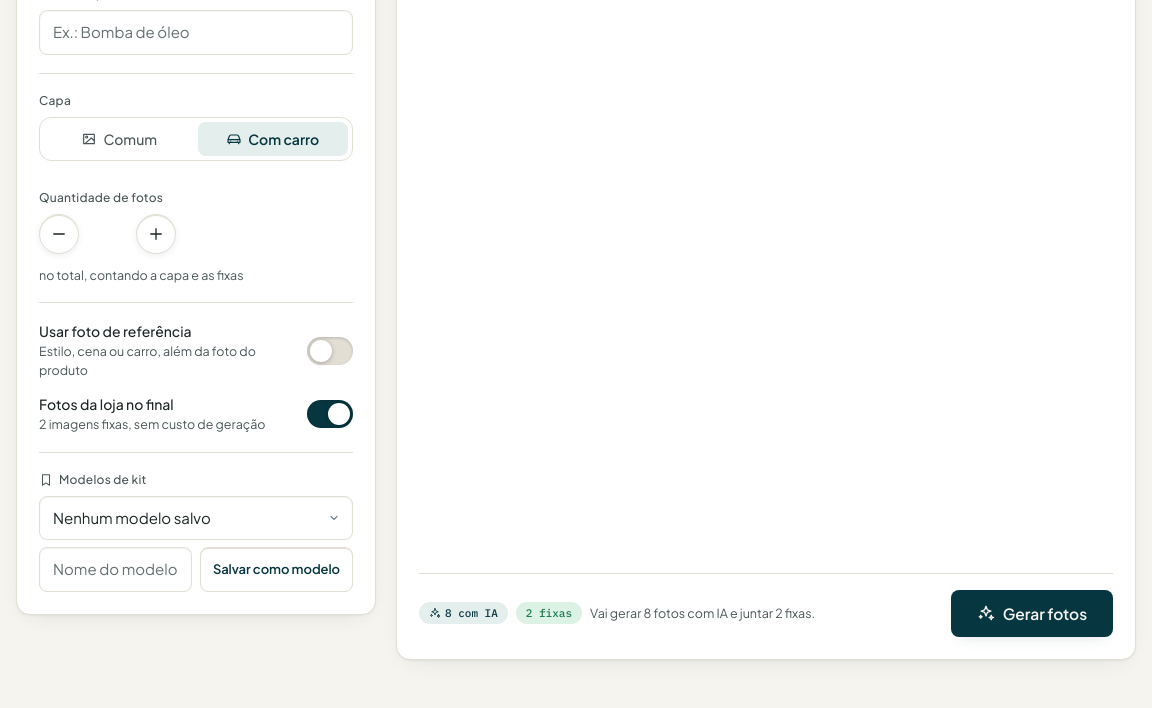
Test case: BuildKit: modelos de kit › salvar modelo sem nome mostra erro e não envia
(page scrolled)
Click the button "Salvar como modelo": (276, 569) [200,547,353,592]
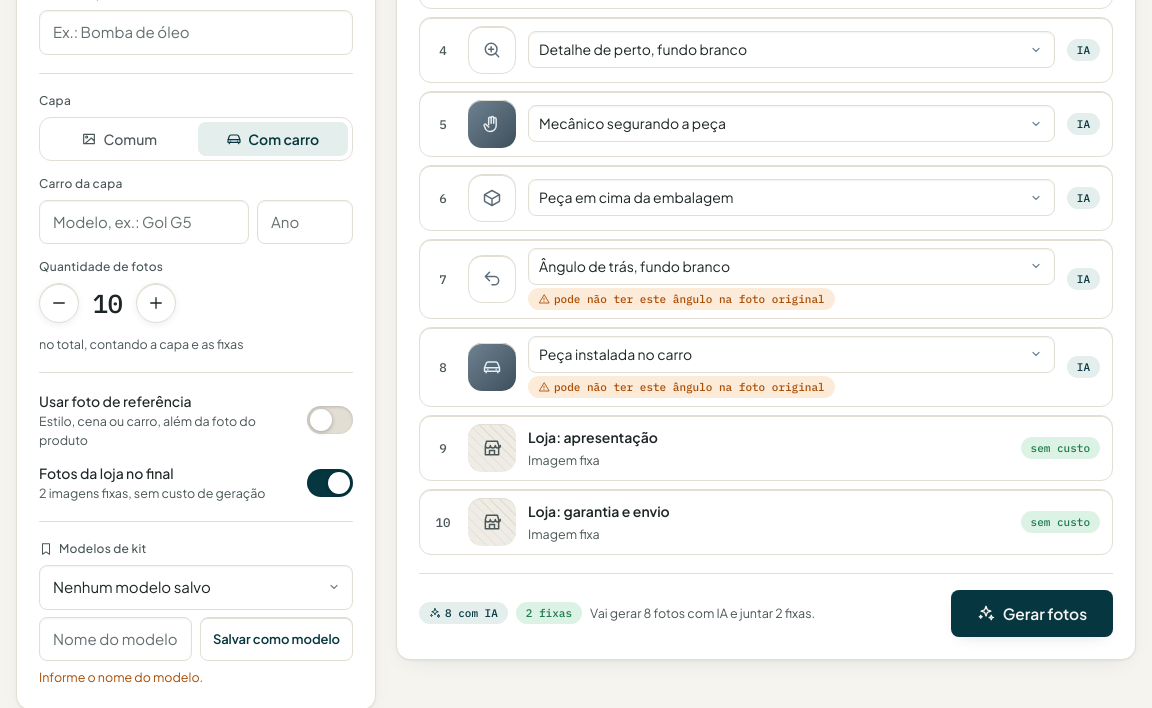
Check: the message shows "nome do modelo", box [39,669,203,685]
